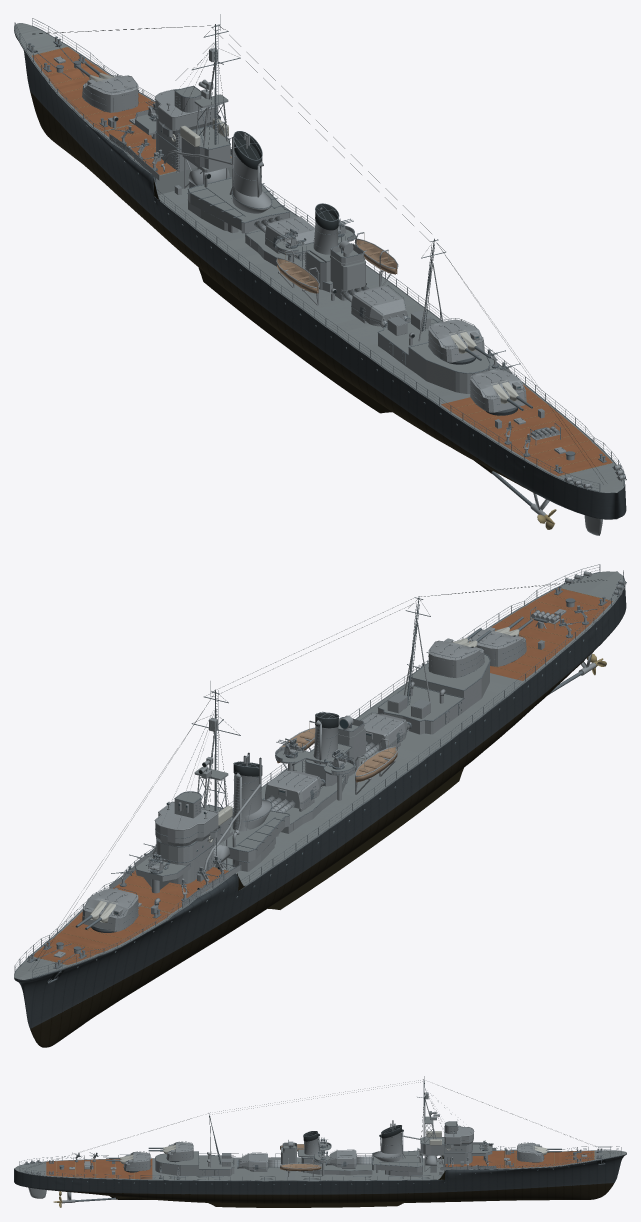
The model's file is yukikaze.glb.
3 renders of one model, top to bottom at view 1: azimuth 30°, elevation 25°; view 2: azimuth 150°, elevation 25°; view 3: azimuth 270°, elevation 25°, orthographic. The views are drawn at different scales.
Parts seen in each view (by area): view 1: hull.envelope, deck.mesh, hull.mesh, rails.mesh, bridge.mesh, forward-funnel.mesh, forward-uptake.mesh, after-deckhouse.mesh, boat.mesh, torpedo-aft.yaw.mesh, main-1.yaw.mesh, main-2.yaw.mesh (+12 smaller); view 2: hull.envelope, deck.mesh, hull.mesh, bridge.mesh, rails.mesh, forward-funnel.mesh, after-deckhouse-forward.mesh, torpedo-forward.yaw.mesh, after-deckhouse.mesh, wheelhouse.mesh, main-2.yaw.mesh, forward-uptake.mesh (+14 smaller); view 3: hull.envelope, deck.mesh, hull.mesh, bridge.mesh, rails.mesh, forward-funnel.mesh, after-deckhouse.mesh, forward-uptake.mesh, after-deckhouse-forward.mesh, torpedo-aft.yaw.mesh, torpedo-forward.yaw.mesh, torpedo-working-deck.mesh (+15 smaller).
Part boxes in pixels (bbox=[...]): hull.envelope: bbox=[14, 30, 626, 519]; deck.mesh: bbox=[14, 23, 624, 492]; hull.mesh: bbox=[14, 25, 624, 491]; rails.mesh: bbox=[14, 18, 623, 491]; bridge.mesh: bbox=[109, 43, 233, 188]; forward-funnel.mesh: bbox=[229, 131, 272, 213]; forward-uptake.mesh: bbox=[187, 177, 289, 233]; after-deckhouse.mesh: bbox=[408, 342, 490, 393]; boat.mesh: bbox=[276, 232, 398, 305]; torpedo-aft.yaw.mesh: bbox=[340, 285, 410, 328]; main-1.yaw.mesh: bbox=[82, 74, 138, 112]; main-2.yaw.mesh: bbox=[428, 318, 484, 362]; hull.envelope: bbox=[14, 585, 626, 1047]; deck.mesh: bbox=[14, 571, 624, 979]; hull.mesh: bbox=[15, 572, 624, 977]; bridge.mesh: bbox=[109, 710, 261, 907]; rails.mesh: bbox=[14, 564, 623, 977]; forward-funnel.mesh: bbox=[232, 752, 272, 831]; after-deckhouse-forward.mesh: bbox=[377, 685, 464, 734]; torpedo-forward.yaw.mesh: bbox=[265, 769, 325, 812]; after-deckhouse.mesh: bbox=[408, 653, 490, 711]; wheelhouse.mesh: bbox=[155, 802, 218, 846]; main-2.yaw.mesh: bbox=[428, 638, 484, 677]; forward-uptake.mesh: bbox=[219, 810, 289, 861]; hull.envelope: bbox=[14, 1153, 626, 1203]; deck.mesh: bbox=[14, 1150, 626, 1181]; hull.mesh: bbox=[19, 1150, 620, 1207]; bridge.mesh: bbox=[403, 1088, 496, 1172]; rails.mesh: bbox=[19, 1146, 621, 1180]; forward-funnel.mesh: bbox=[372, 1120, 405, 1161]; after-deckhouse.mesh: bbox=[155, 1151, 198, 1176]; forward-uptake.mesh: bbox=[372, 1150, 422, 1172]; after-deckhouse-forward.mesh: bbox=[199, 1155, 234, 1176]; torpedo-aft.yaw.mesh: bbox=[237, 1152, 282, 1171]; torpedo-forward.yaw.mesh: bbox=[325, 1149, 371, 1168]; torpedo-working-deck.mesh: bbox=[298, 1159, 372, 1175].
Bounding box in the file's own units: 11.2 × 27.09 × 118.
Materials: 13 (8 with a texture image).
